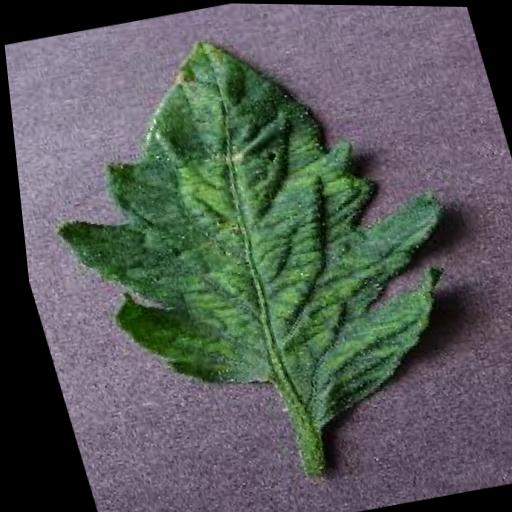Mosaic Virus: (3, 0, 499, 466)
